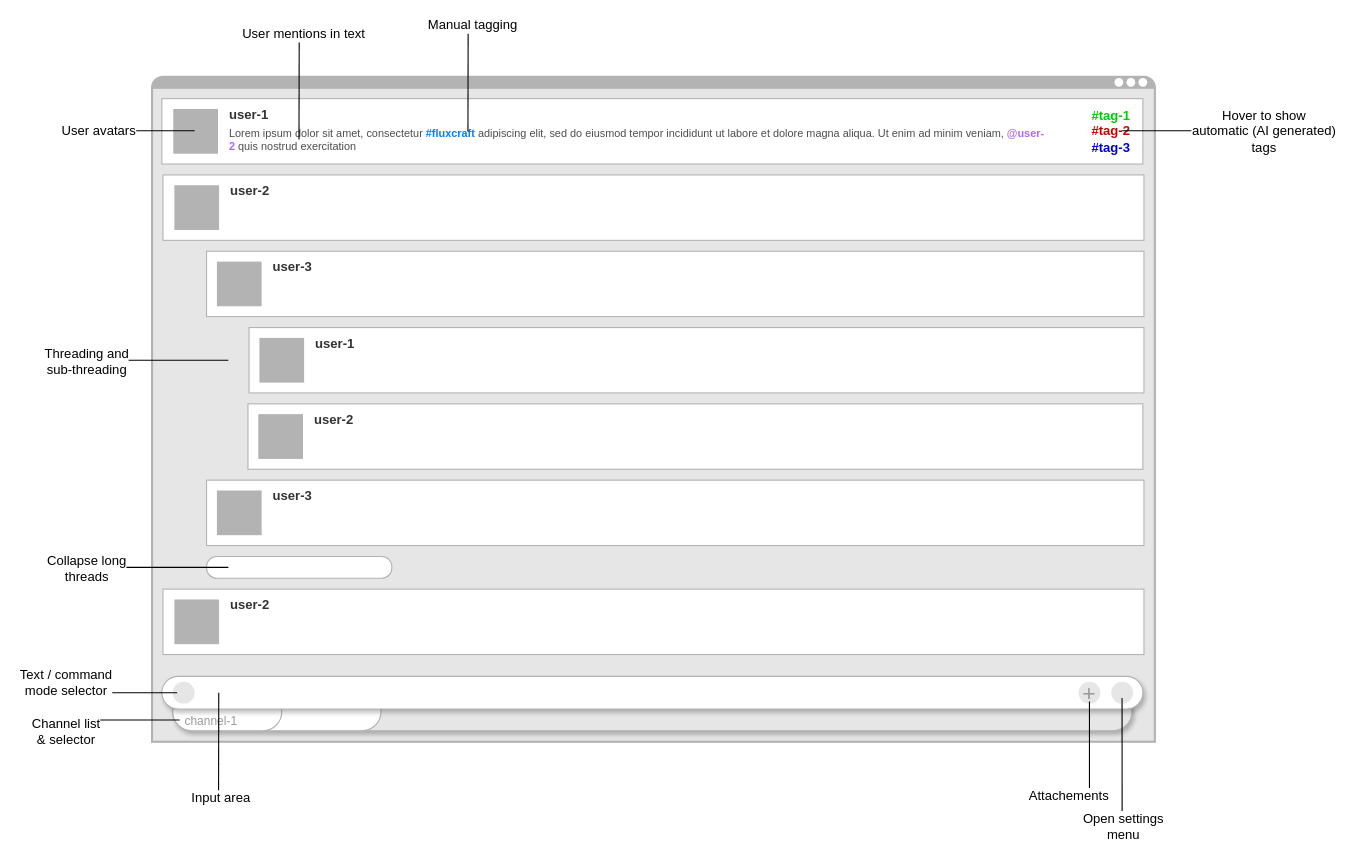
This 1355x862 diagram has some shape labels left out. The shapes that lost their labels are listed below. From the top down, each one's centre as x and y in pixels, then its label:
At [298,566]: "Load more messages...".
At [314,711]: "channel-2".
